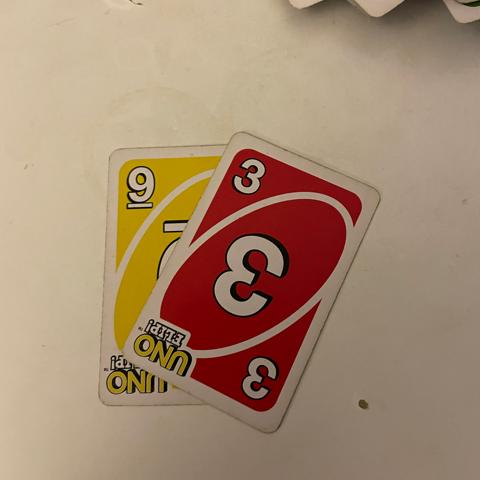lred-3: (227, 153, 270, 205)
lyellow-9: (116, 158, 166, 216)
